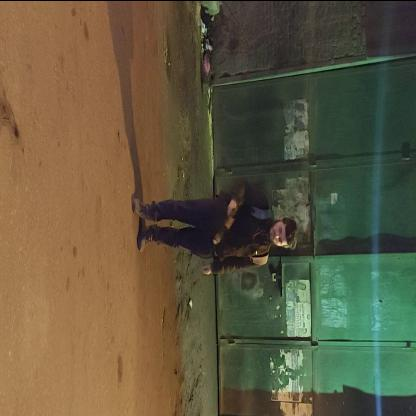long weapon: (199, 184, 249, 274)
